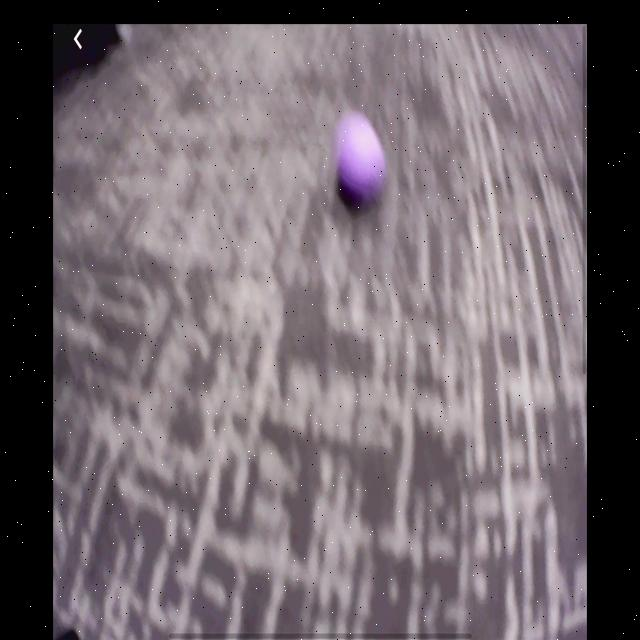ball: (335, 110, 388, 214)
